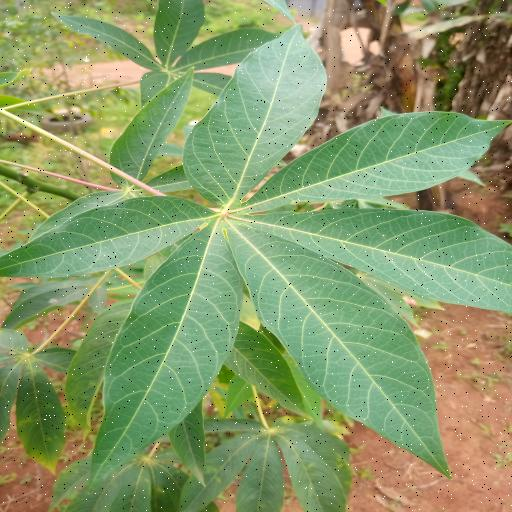Cassava_Healthy: (0, 22, 512, 478)
